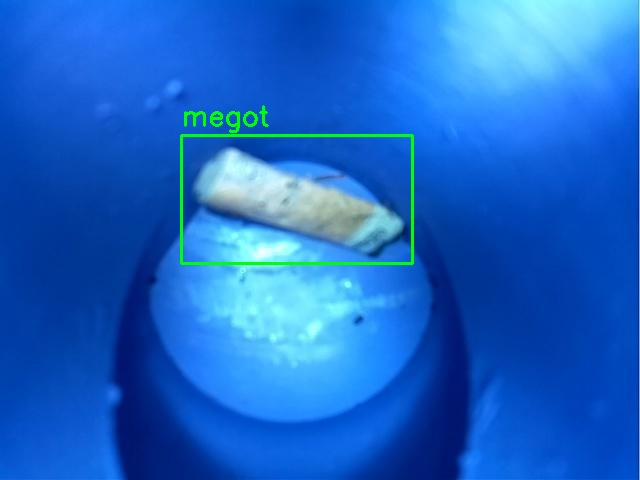megot: (181, 135, 412, 263)
